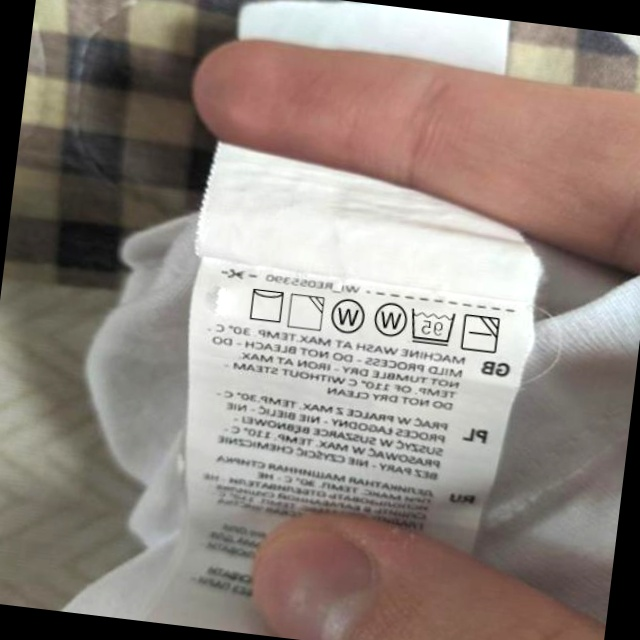95C: (406, 305, 458, 348)
dry_flat_in_shade: (459, 310, 503, 356)
line_dry: (244, 283, 288, 326)
shade_dry: (285, 290, 327, 333)
wet_clean: (327, 295, 368, 338), (369, 296, 409, 340)
